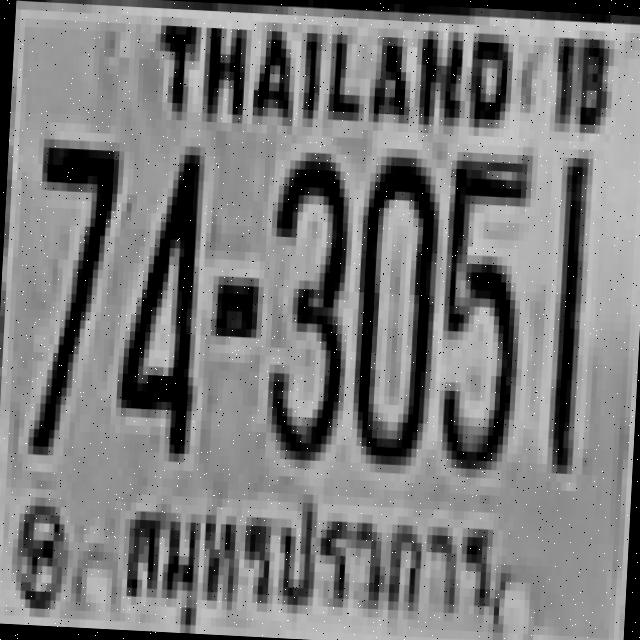0: (346, 146, 437, 458)
1: (545, 153, 591, 470)
3: (260, 146, 352, 458)
4: (111, 139, 202, 450)
5: (434, 148, 531, 466)
7: (26, 134, 118, 453)
SamutPrakan: (108, 462, 510, 640)
